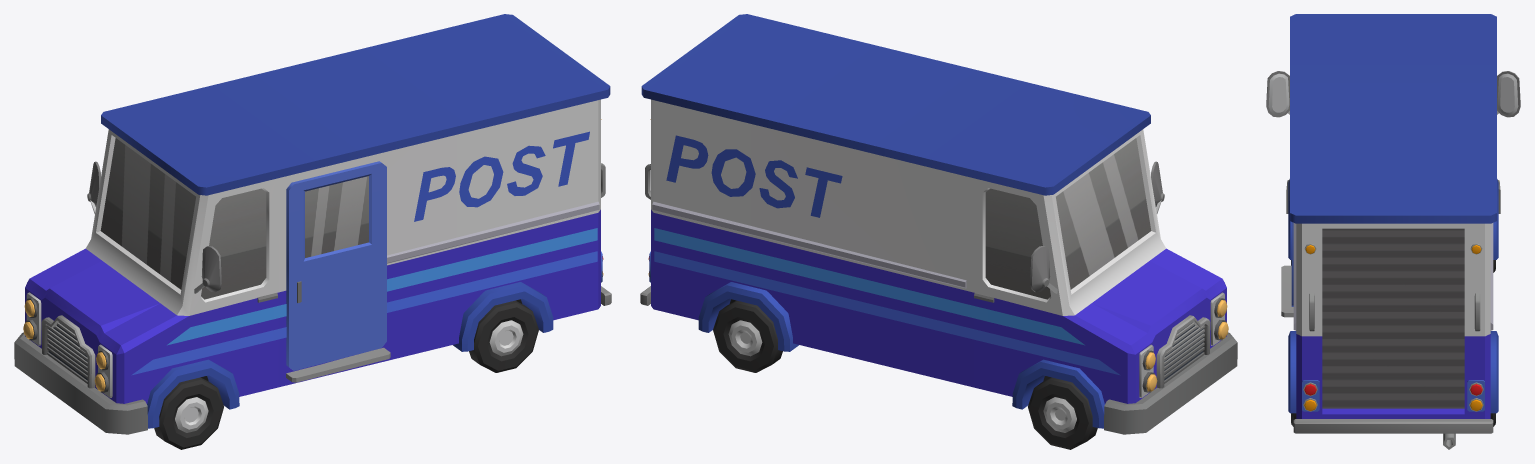
File: PostCar_1_A.gltf
3 views of the same model, side by side, from view 1: azimuth 30°, elevation 25°; view 2: azimuth 150°, elevation 25°; view 3: azimuth 270°, elevation 25° (orthographic).
Parts seen in each view (by area): view 1: PostCar_1_A, RL, FL; view 2: PostCar_1_A, RR, FR; view 3: PostCar_1_A.
Part boxes in pixels (left/top/right/bottom): PostCar_1_A: left=14, top=14, right=611, bottom=434; RL: left=469, top=300, right=538, bottom=372; FL: left=154, top=377, right=223, bottom=449; PostCar_1_A: left=640, top=14, right=1237, bottom=434; RR: left=713, top=300, right=782, bottom=372; FR: left=1028, top=377, right=1097, bottom=449; PostCar_1_A: left=1266, top=14, right=1520, bottom=449.
Size of the model in its own units: 4.14 by 2.02 by 1.8.
5 materials, 5 textured.
